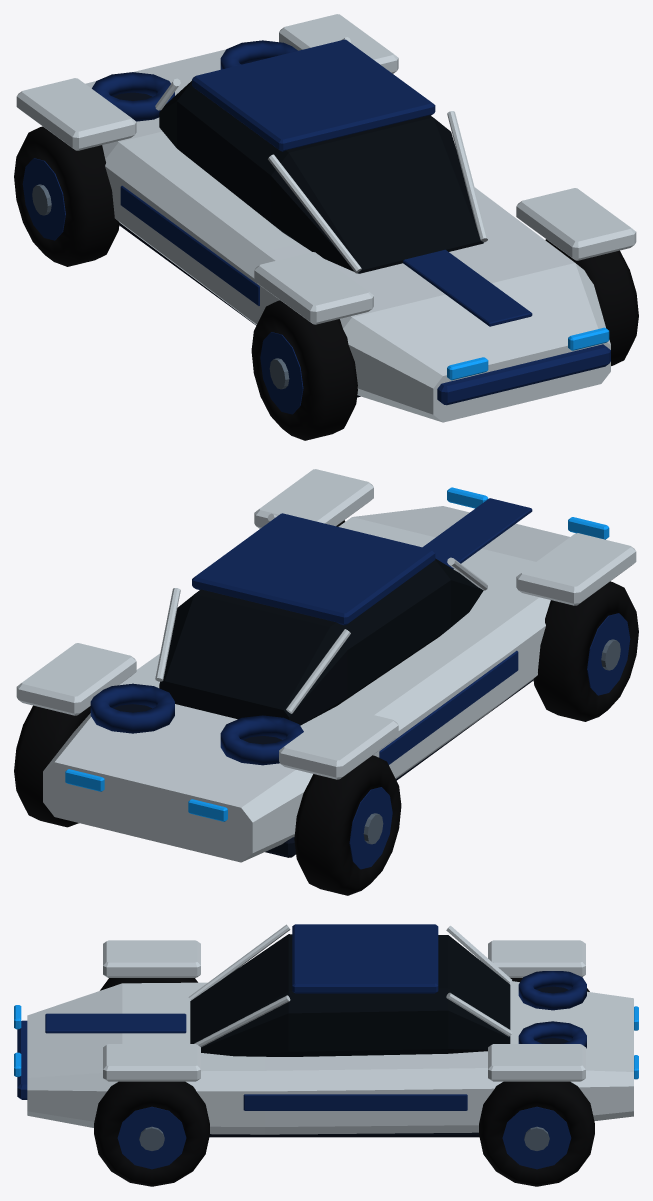
The model's file is astra_carro.obj.
3 views of the same model, one above another, from view 1: azimuth 30°, elevation 25°; view 2: azimuth 150°, elevation 25°; view 3: azimuth 270°, elevation 25° (orthographic). The views are drawn at different scales.
Visible parts, largest first — view 1: astra_carro; view 2: astra_carro; view 3: astra_carro.
Part boxes in pixels (x1,y1,x2,y2): astra_carro: (14,14,638,440); astra_carro: (14,469,638,895); astra_carro: (14,924,638,1186).
Bounding box in the file's own units: 2.94 × 1.78 × 5.86.
